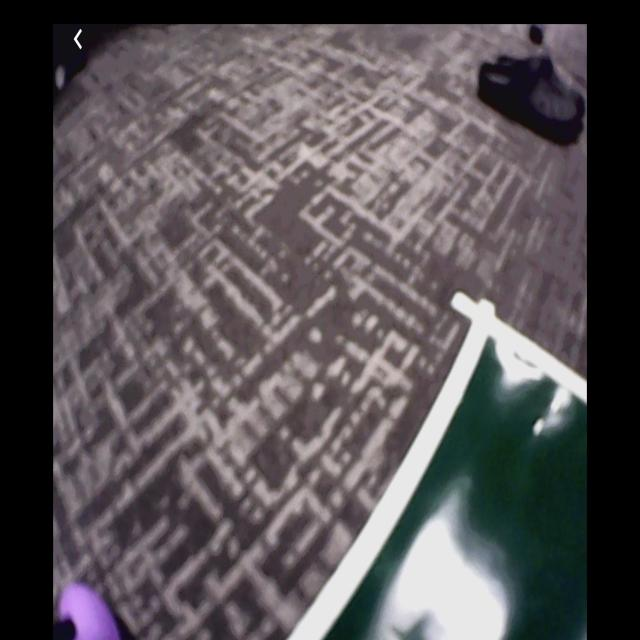ball: (59, 586, 121, 640)
